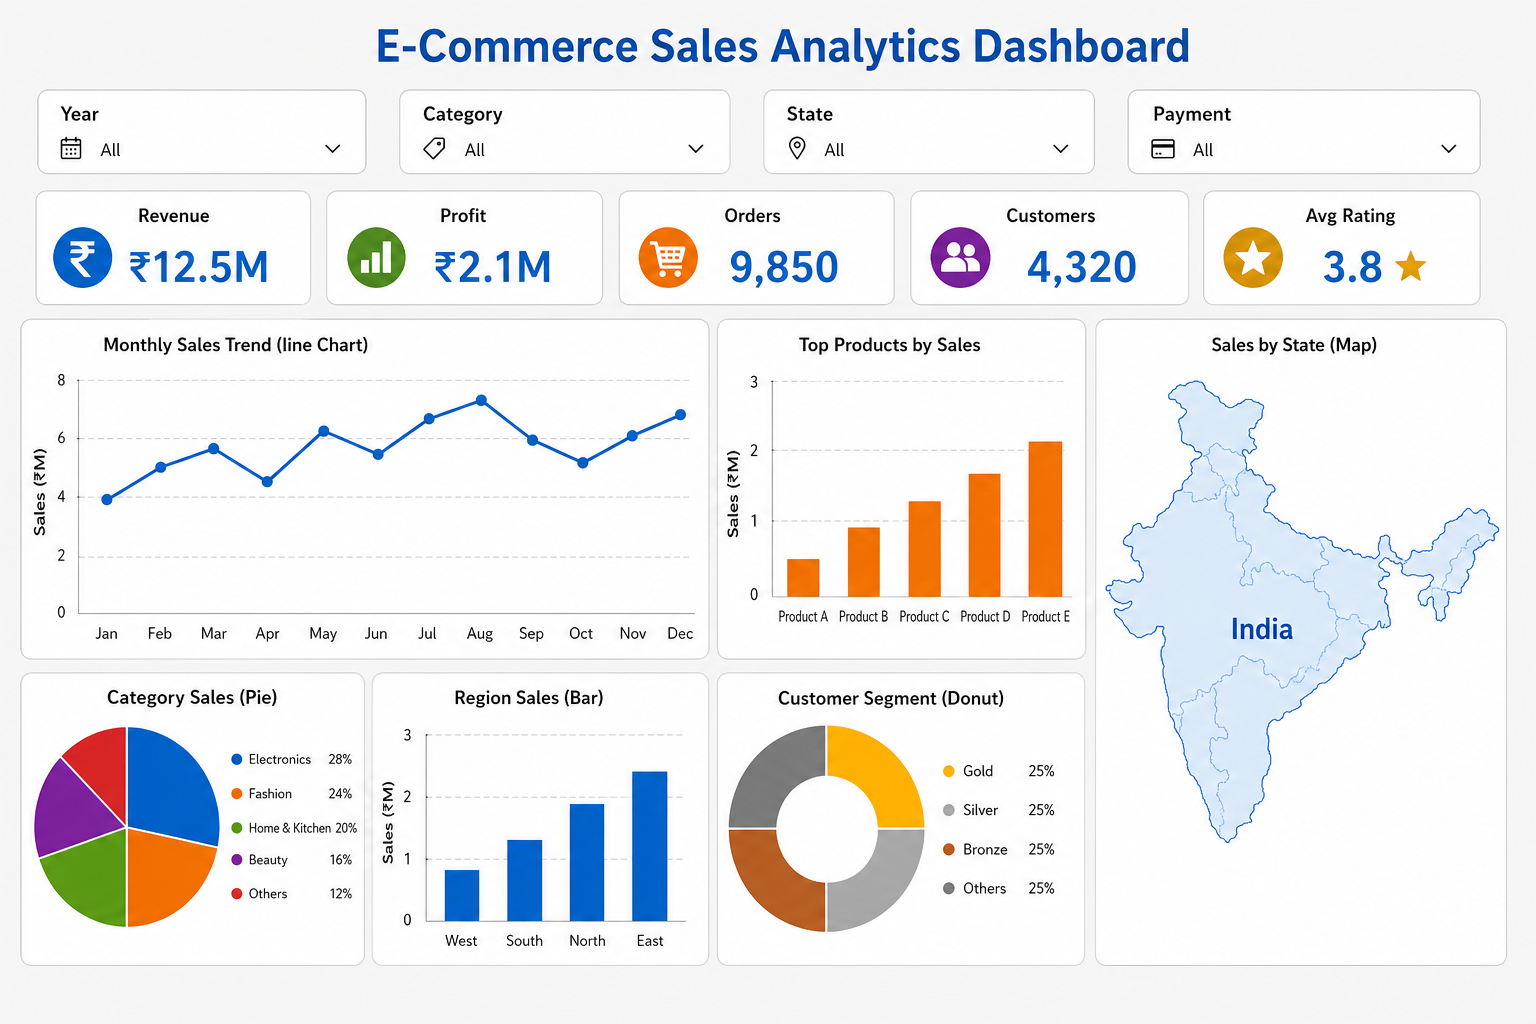

The page's visual inventory and layout, read from the dashboard file:
{"tool":"powerbi","page":{"name":"Page 1","canvas":[1280,720],"ordinal":0},"visuals":[{"type":"textbox","box":[294.4,0,772.1,77.2],"z":0},{"type":"slicer","fields":{"Values":["cleaned_sales.Year"]},"box":[26.2,77.5,286.2,67.5],"z":1000},{"type":"slicer","fields":{"Values":["cleaned_sales.Product_Category"]},"box":[341.2,77.5,286.2,67.5],"z":2000},{"type":"slicer","fields":{"Values":["cleaned_sales.State"]},"box":[652.5,77.5,286.2,67.5],"z":3000},{"type":"slicer","fields":{"Values":["cleaned_sales.Payment_Method"]},"box":[963.8,77.5,286.2,67.5],"z":4000},{"type":"image","box":[283.8,75,26.2,40],"z":5000},{"type":"image","box":[596.2,82.5,26.2,23.8],"z":6000},{"type":"image","box":[906.2,81.2,33.8,23.8],"z":7000},{"type":"image","box":[1215,77.5,32.5,27.5],"z":8000},{"type":"cardVisual","fields":{"Data":["Sum(cleaned_sales.Sales)"]},"box":[26.2,157.5,233.8,113.8],"z":9000},{"type":"image","box":[36.2,185,65,56.2],"z":10000},{"type":"cardVisual","fields":{"Data":["Sum(cleaned_sales.Profit)"]},"box":[272.5,157.5,233.8,113.8],"z":11000},{"type":"image","box":[282.5,182.5,68.8,58.8],"z":12000},{"type":"cardVisual","fields":{"Data":["Count(cleaned_sales.Order_ID)"]},"box":[523.8,157.5,233.8,113.8],"z":13000},{"type":"image","box":[528.8,178.8,70,62.5],"z":14000},{"type":"cardVisual","fields":{"Data":["Count(cleaned_sales.Customer_ID)"]},"box":[771.2,157.5,233.8,113.8],"z":15000},{"type":"image","box":[776.2,183.8,71.2,57.5],"z":16000},{"type":"cardVisual","fields":{"Data":["Avg(cleaned_sales.Rating)"]},"box":[1016.2,158.8,233.8,113.8],"z":17000},{"type":"image","box":[1017.5,183.8,81.2,60],"z":18000},{"type":"image","box":[1215,216.2,30,28.8],"z":19000},{"type":"lineChart","title":"Monthly Sales Trend","fields":{"Y":["Sum(cleaned_sales.Sales)"],"Category":["cleaned_sales.Month_Name"]},"box":[26.2,288.8,502.5,201.2],"z":20000},{"type":"columnChart","title":"Top Products by Sales","fields":{"Category":["cleaned_sales.Product_Name"],"Y":["Sum(cleaned_sales.Sales)"]},"box":[548.8,288.8,460,201.2],"z":21000},{"type":"pieChart","title":"Category Sales","fields":{"Category":["cleaned_sales.Product_Category"],"Y":["Sum(cleaned_sales.Sales)"]},"box":[26.2,507.5,417.5,201.2],"z":21001},{"type":"clusteredColumnChart","title":"Region Sales","fields":{"Category":["cleaned_sales.Region"],"Y":["Sum(cleaned_sales.Sales)"]},"box":[456.2,507.5,307.5,201.2],"z":21002},{"type":"donutChart","title":"Customer Segment","fields":{"Category":["cleaned_sales.Customer_Segment"],"Y":["Sum(cleaned_sales.Sales)"]},"box":[776.2,507.5,262.5,201.2],"z":21003},{"type":"image","box":[1027.5,290,252.5,318.8],"z":21005}]}

Visuals, with their boxes on the page's 1280x720 design canvas (x1, y1, x2, y2). These are canvas units, not pixel positions in the 1536x1024 screenshot, which may show the page scaled, cropped or inside an application window:
textbox: {"left": 294, "top": 0, "right": 1066, "bottom": 77}
slicer - cleaned_sales.Year: {"left": 26, "top": 78, "right": 312, "bottom": 145}
slicer - cleaned_sales.Product_Category: {"left": 341, "top": 78, "right": 627, "bottom": 145}
slicer - cleaned_sales.State: {"left": 652, "top": 78, "right": 939, "bottom": 145}
slicer - cleaned_sales.Payment_Method: {"left": 964, "top": 78, "right": 1250, "bottom": 145}
image: {"left": 284, "top": 75, "right": 310, "bottom": 115}
image: {"left": 596, "top": 82, "right": 622, "bottom": 106}
image: {"left": 906, "top": 81, "right": 940, "bottom": 105}
image: {"left": 1215, "top": 78, "right": 1248, "bottom": 105}
cardVisual - Sum(cleaned_sales.Sales): {"left": 26, "top": 158, "right": 260, "bottom": 271}
image: {"left": 36, "top": 185, "right": 101, "bottom": 241}
cardVisual - Sum(cleaned_sales.Profit): {"left": 272, "top": 158, "right": 506, "bottom": 271}
image: {"left": 282, "top": 182, "right": 351, "bottom": 241}
cardVisual - Count(cleaned_sales.Order_ID): {"left": 524, "top": 158, "right": 758, "bottom": 271}
image: {"left": 529, "top": 179, "right": 599, "bottom": 241}
cardVisual - Count(cleaned_sales.Customer_ID): {"left": 771, "top": 158, "right": 1005, "bottom": 271}
image: {"left": 776, "top": 184, "right": 847, "bottom": 241}
cardVisual - Avg(cleaned_sales.Rating): {"left": 1016, "top": 159, "right": 1250, "bottom": 273}
image: {"left": 1018, "top": 184, "right": 1099, "bottom": 244}
image: {"left": 1215, "top": 216, "right": 1245, "bottom": 245}
"Monthly Sales Trend" lineChart: {"left": 26, "top": 289, "right": 529, "bottom": 490}
"Top Products by Sales" columnChart: {"left": 549, "top": 289, "right": 1009, "bottom": 490}
"Category Sales" pieChart: {"left": 26, "top": 508, "right": 444, "bottom": 709}
"Region Sales" clusteredColumnChart: {"left": 456, "top": 508, "right": 764, "bottom": 709}
"Customer Segment" donutChart: {"left": 776, "top": 508, "right": 1039, "bottom": 709}
image: {"left": 1028, "top": 290, "right": 1280, "bottom": 609}
